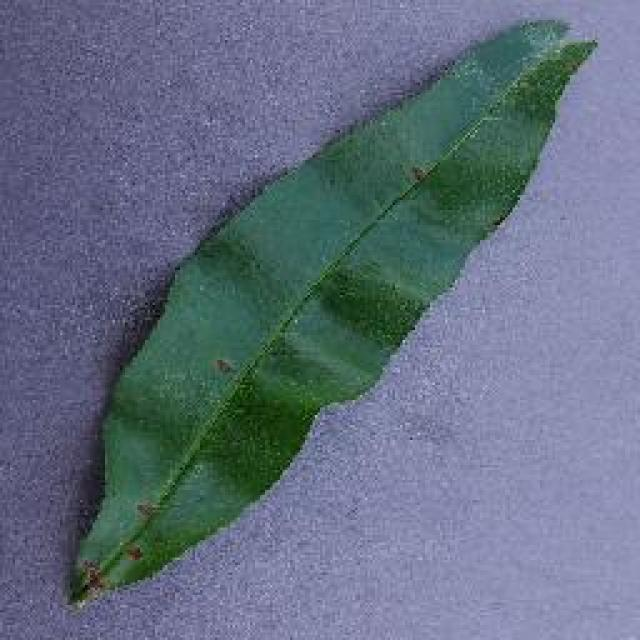Peach_Bacterial_Spot: (140, 315, 303, 558)
